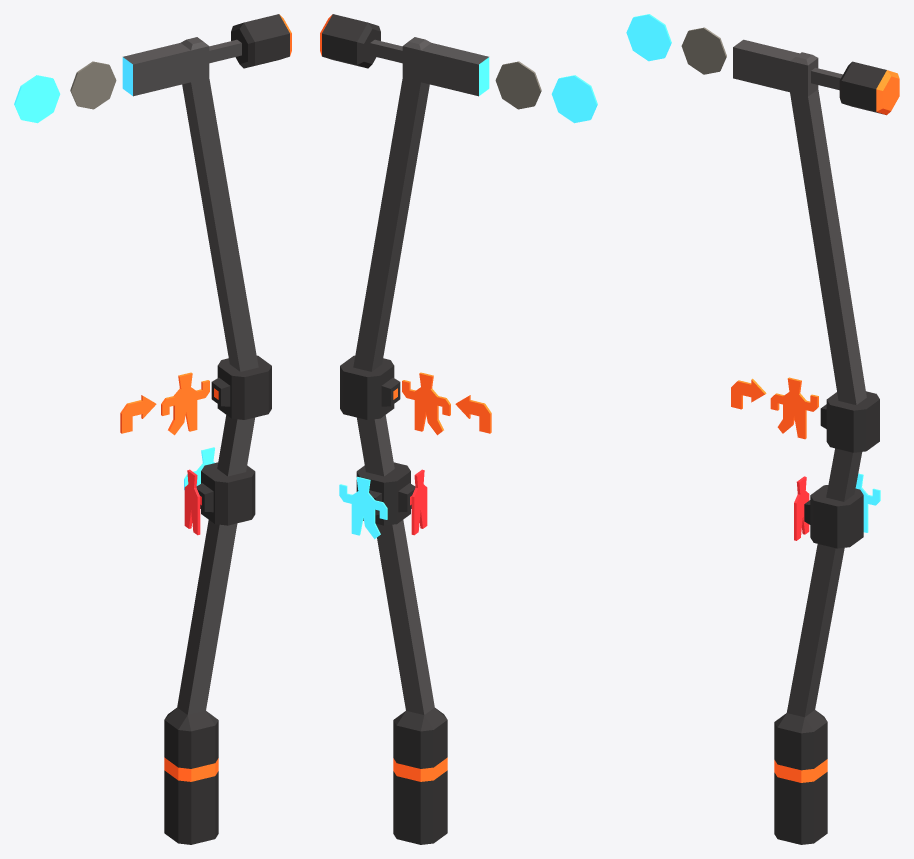
Rendered from scifi_scifi-traffic-lights-corner-b.fbx.
The picture shows the model from 3 angles, left to right: view 1: azimuth 30°, elevation 25°; view 2: azimuth 150°, elevation 25°; view 3: azimuth 330°, elevation 25°; orthographic projection.
Visible parts, largest first — view 1: scifi_scifi_traffic_lights_corner_b; view 2: scifi_scifi_traffic_lights_corner_b; view 3: scifi_scifi_traffic_lights_corner_b.
Boxes of the visible parts, x1,y1,x2,y2 form: scifi_scifi_traffic_lights_corner_b: (14, 14, 291, 844); scifi_scifi_traffic_lights_corner_b: (320, 14, 597, 844); scifi_scifi_traffic_lights_corner_b: (626, 14, 899, 844).
Size of the model in its own units: 70.53 by 200 by 14.68.
